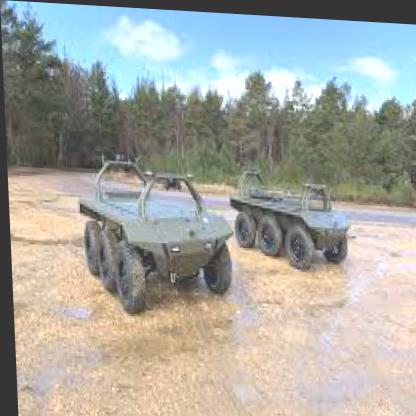UGV: (75, 157, 231, 317), (227, 166, 350, 268)
